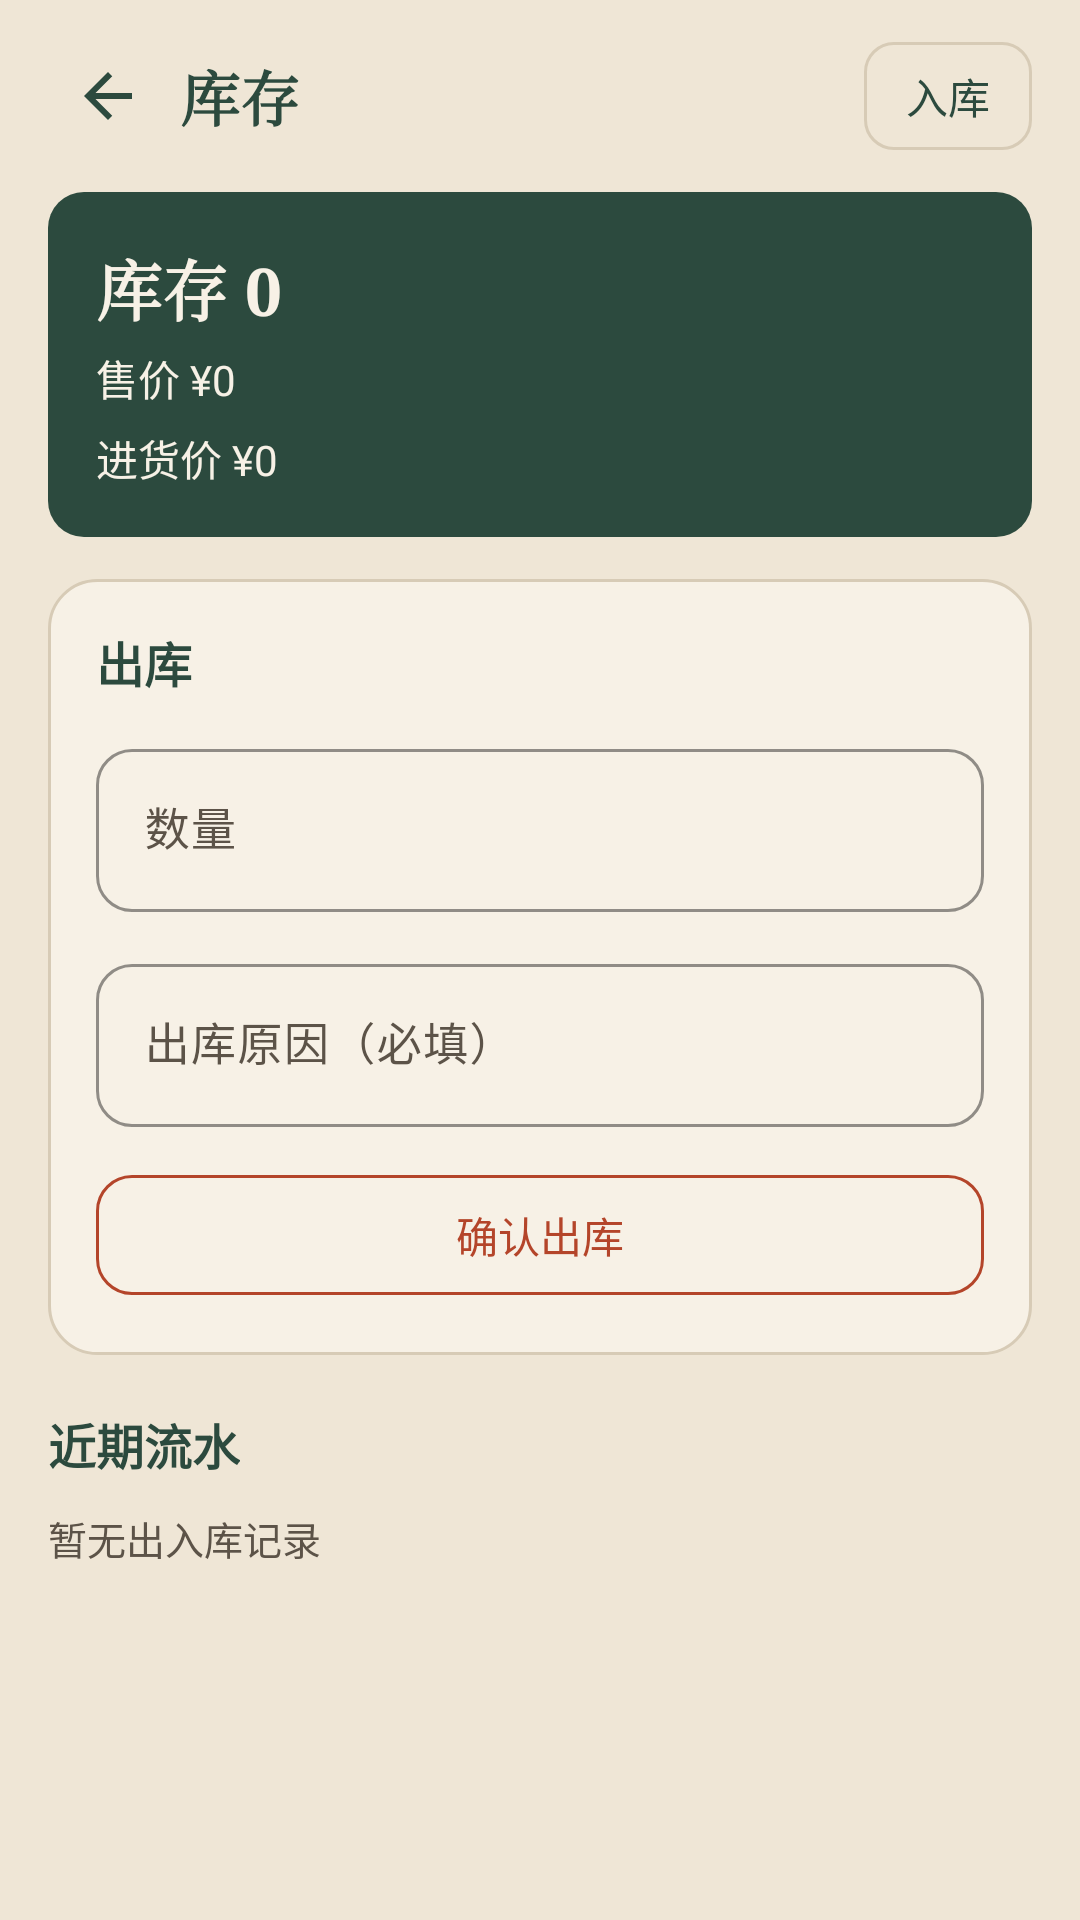

Named icons in this screenshot (1080px x 1920px) and their centers, (x=x, y=y):
返回: (x=108, y=96)
